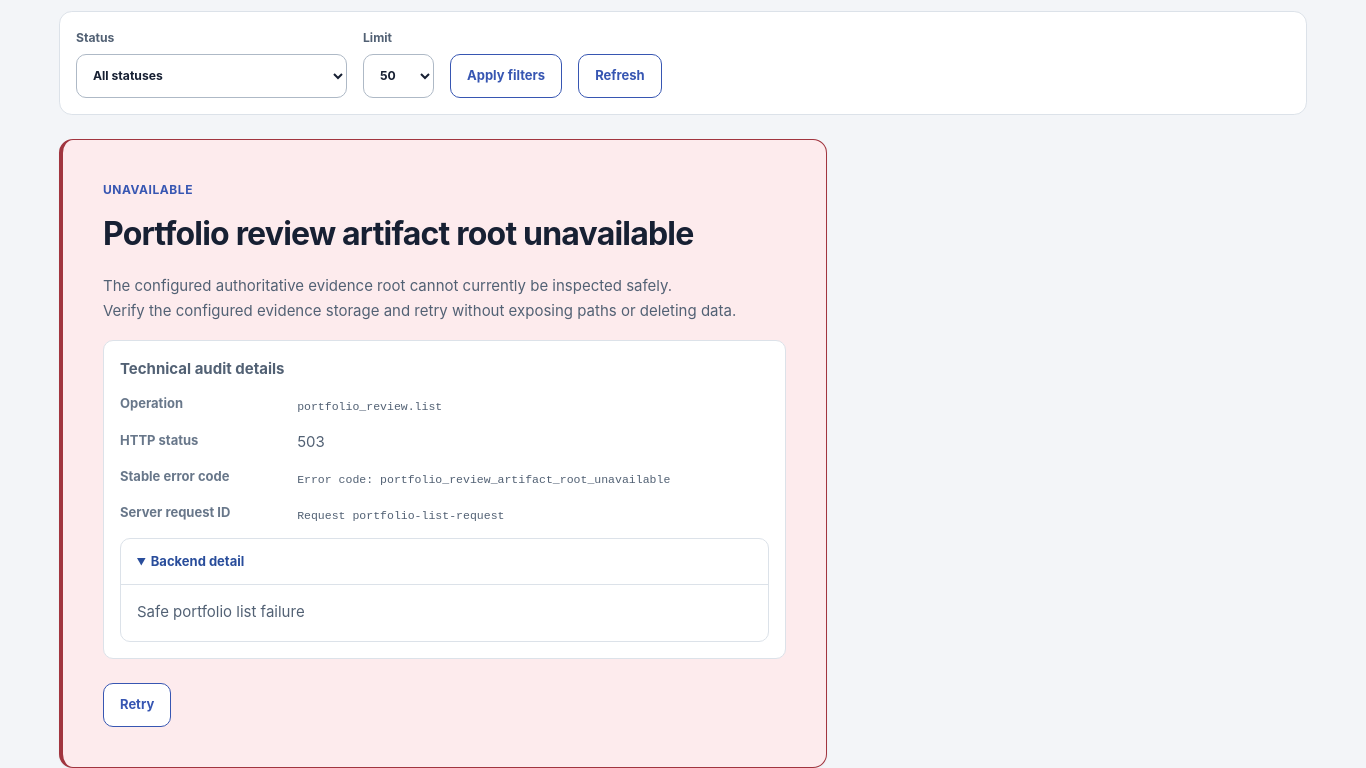
Test: PortfolioReviewListView › renders stable audit identity and supports manual retry
This screenshot has width=1366, height=768.
(page scrolled)
Expected: the heading "Portfolio review artifact root unavailable" is shown, [103, 208, 786, 260]
Expected: the text "portfolio_review.list" is shown, [297, 400, 442, 413]
Click the button "Retry". click: (137, 705)
box: [103, 683, 171, 727]
(page scrolled)
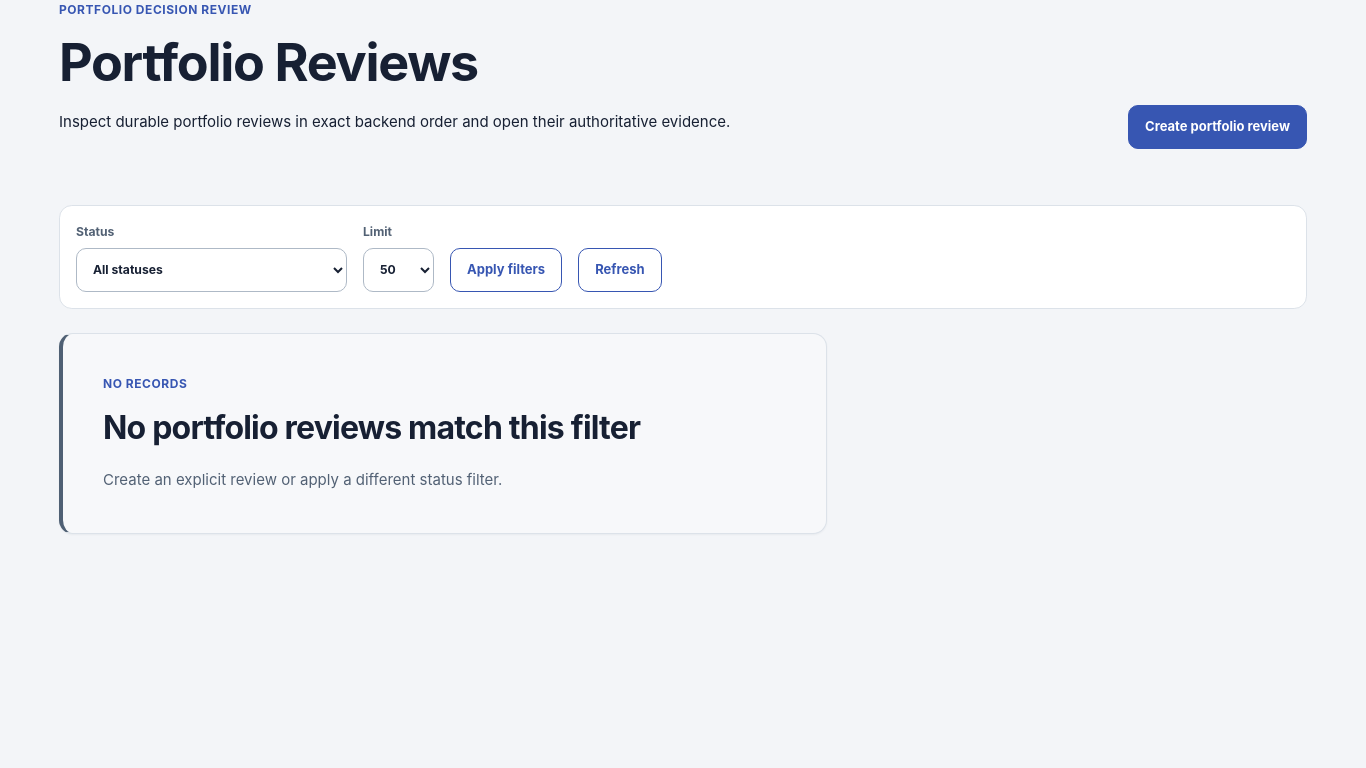
Expected: the heading "No portfolio reviews match this filter" is shown, [103, 408, 640, 447]
